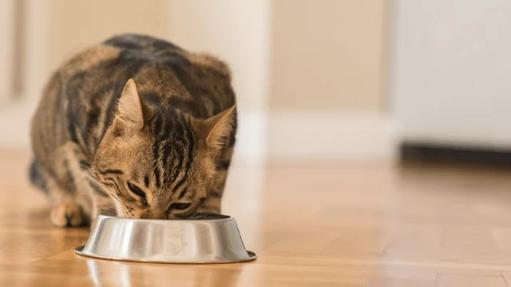cat_eating: (30, 35, 252, 262)
